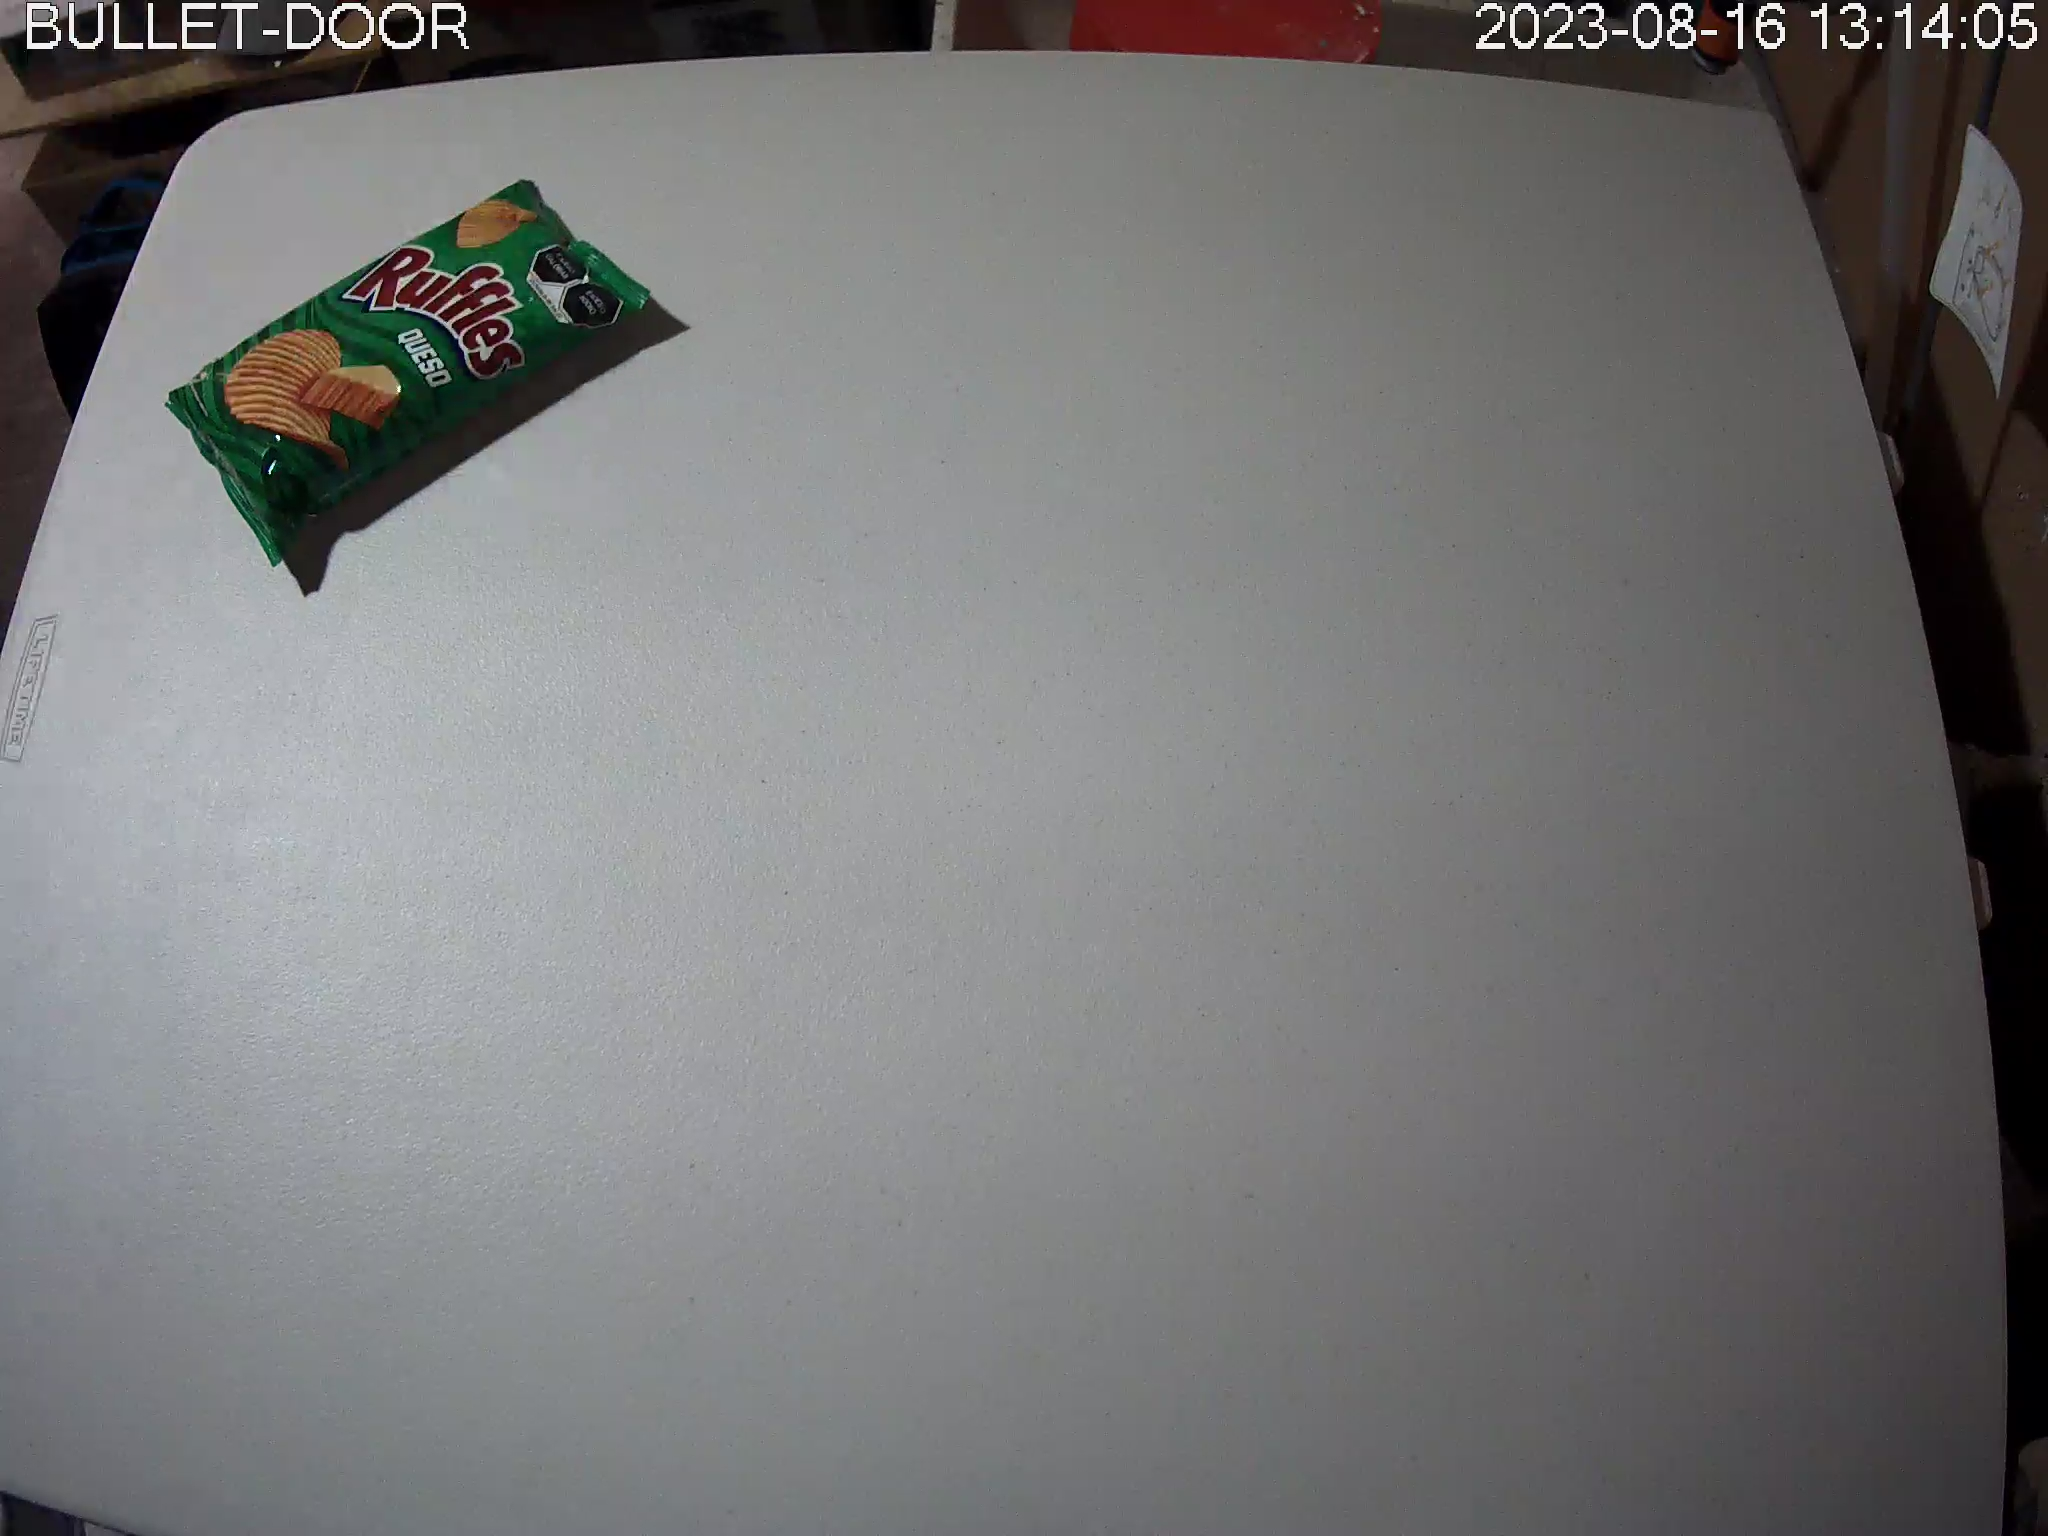RufflesQ_48_F: (163, 177, 655, 565)
